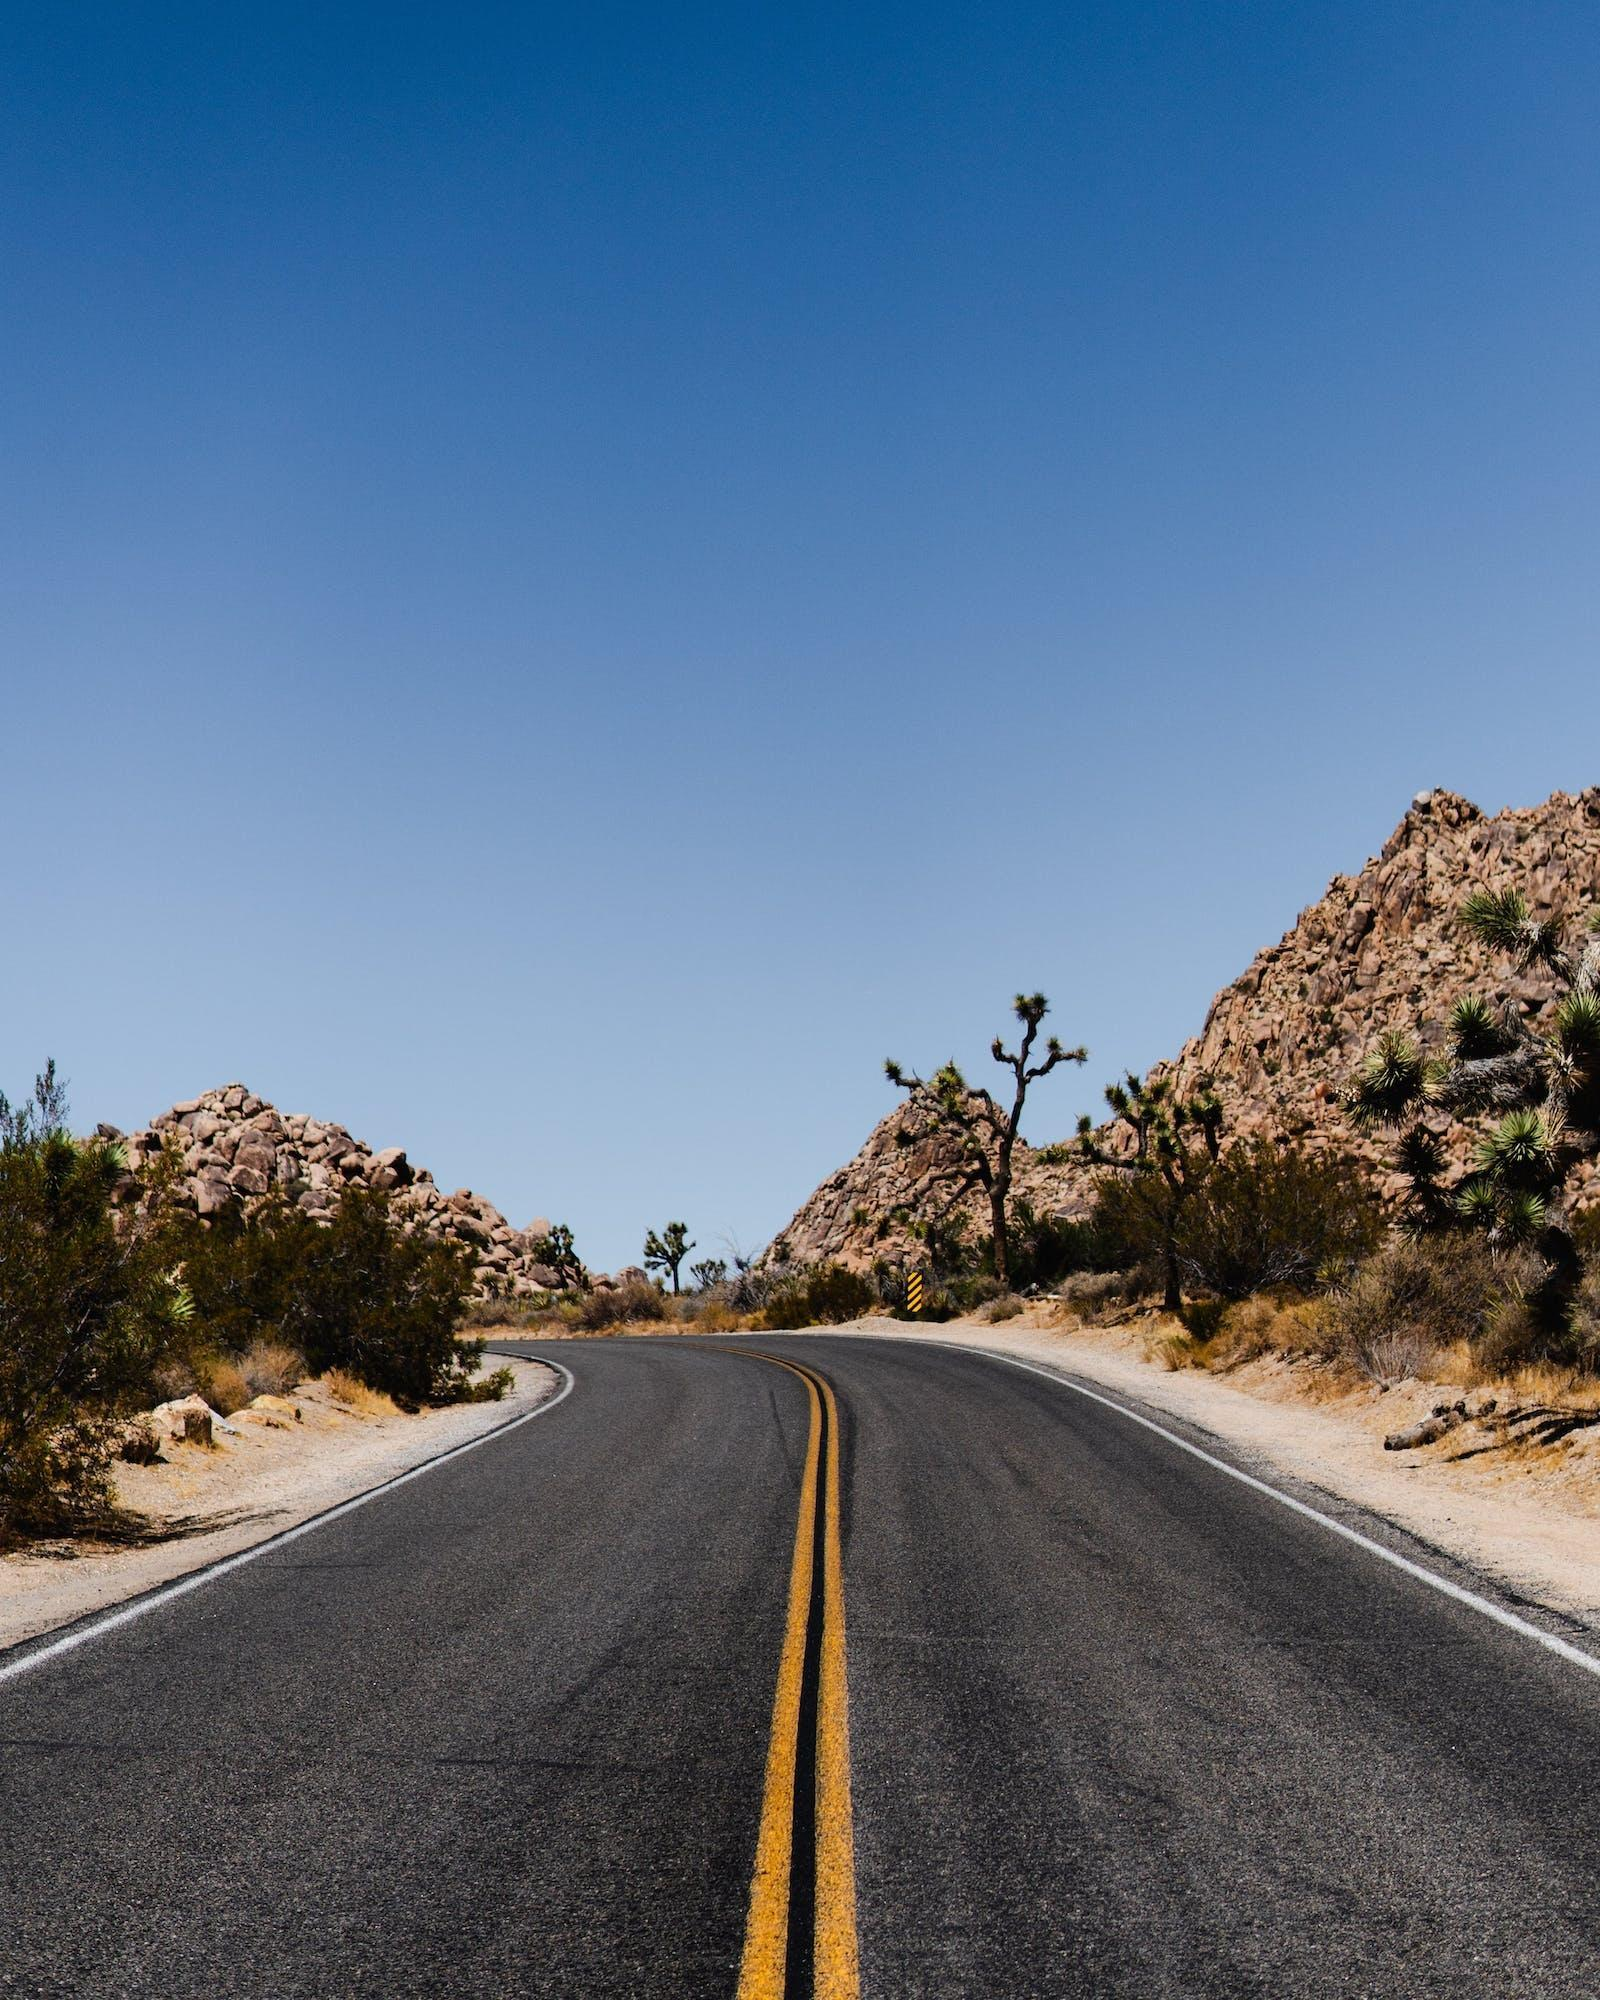road: (5, 1336, 1595, 1998)
